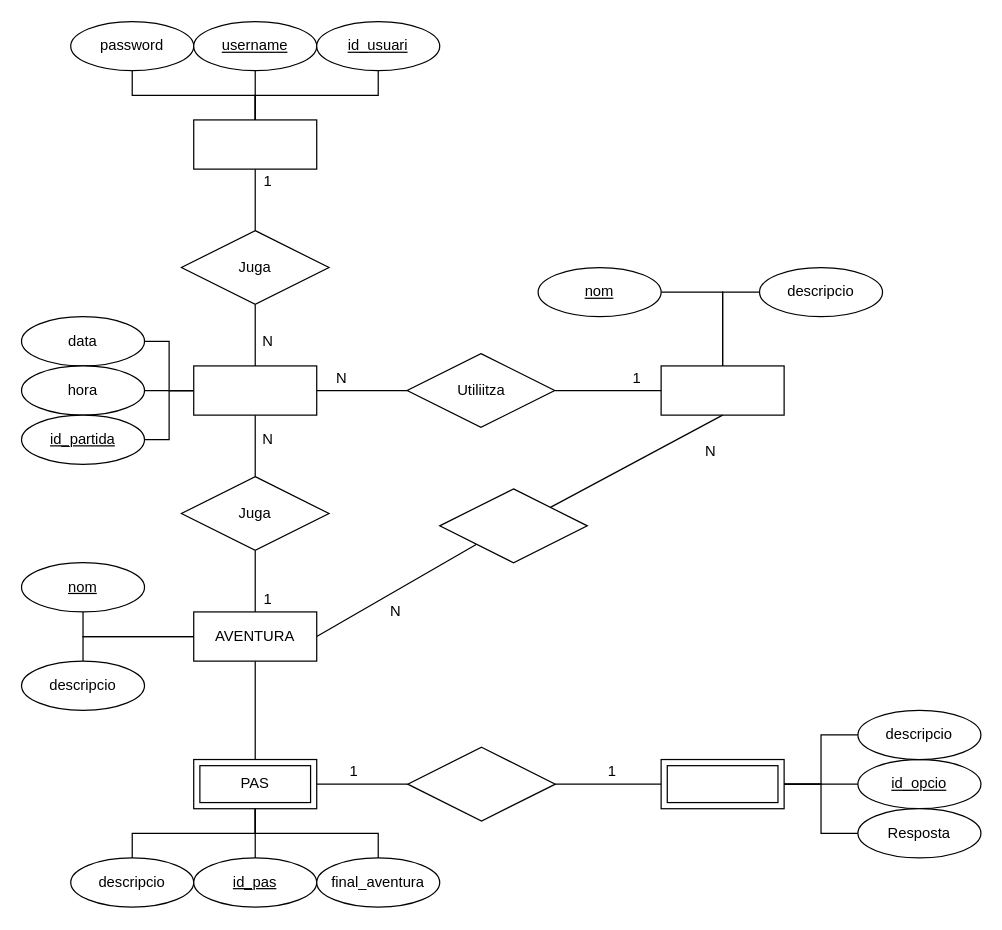
This 1002x930 diagram has some shape labels left out. The centre of each missing label's shape, as x and y in pixels:
"OPCIO" belongs at (x=722, y=783).
"PARTIDA" belongs at (x=254, y=390).
"PERSONATGE" belongs at (x=722, y=390).
"Protagonitza" belongs at (x=512, y=525).
"Seguent_pas" belongs at (x=481, y=783).
"USUARI" belongs at (x=254, y=144).
